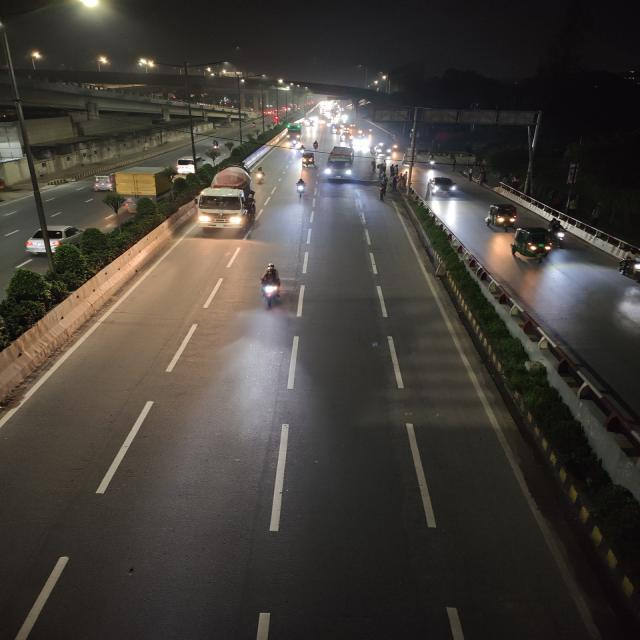bus: (324, 144, 356, 182)
car: (21, 220, 83, 260), (426, 175, 462, 199), (172, 155, 203, 175)
cng: (508, 225, 564, 266), (484, 202, 520, 232), (89, 169, 119, 194), (301, 151, 317, 169)
motorcycle: (253, 261, 286, 311), (614, 250, 640, 283), (546, 218, 571, 246), (252, 164, 268, 186), (294, 177, 308, 199), (208, 137, 222, 151), (426, 155, 438, 169), (312, 140, 322, 152), (296, 144, 306, 152)
pedestrian: (374, 177, 389, 202), (476, 172, 488, 187), (388, 175, 398, 193), (381, 160, 390, 176), (462, 167, 472, 179), (372, 158, 379, 172), (452, 159, 459, 173)
truck: (194, 165, 259, 235), (112, 163, 177, 207), (286, 122, 304, 141)
